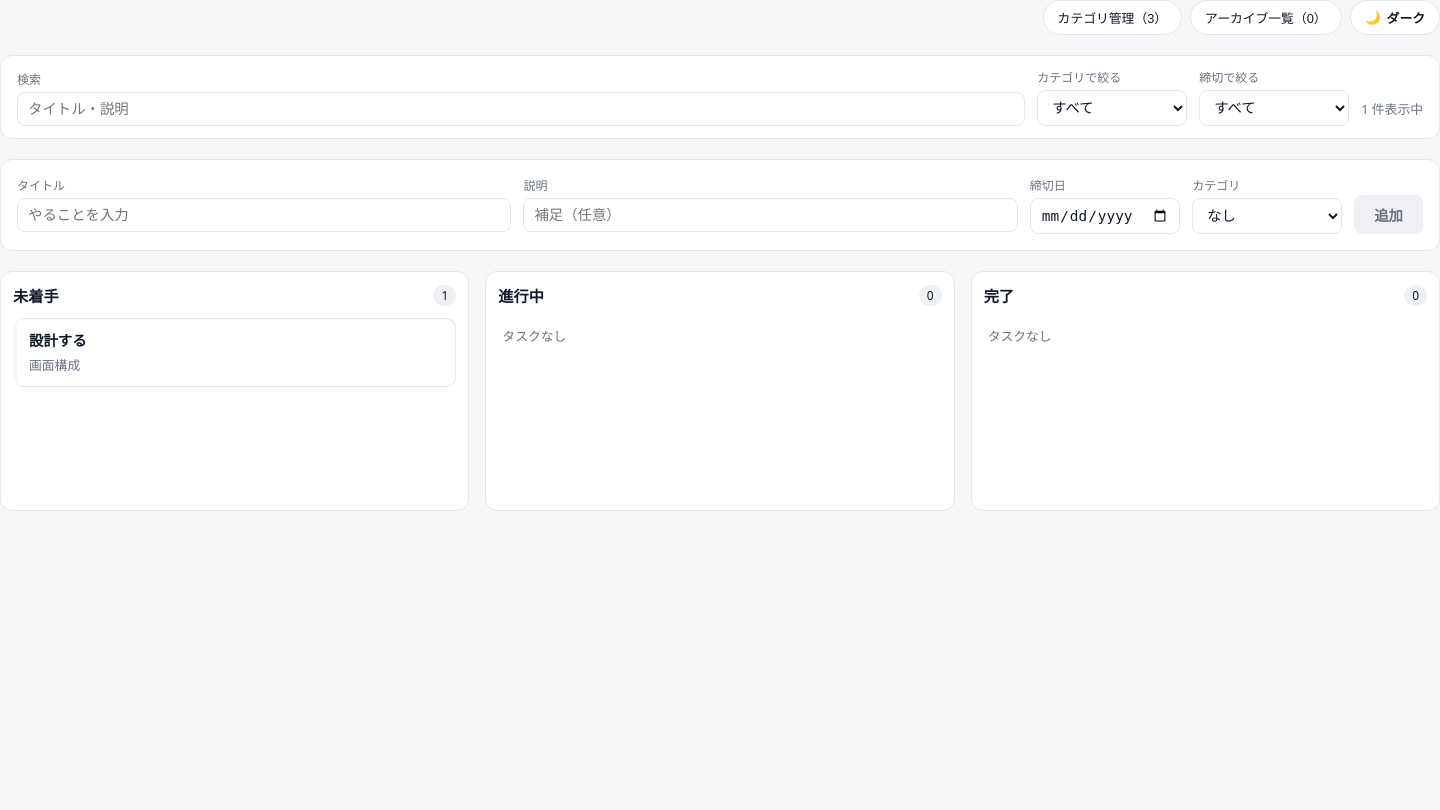
Test case: KanbanBoard › 詳細で編集した内容がボードに反映される
Click the button with test id "task-1".
click(58, 341)  # box [13, 318, 456, 387]
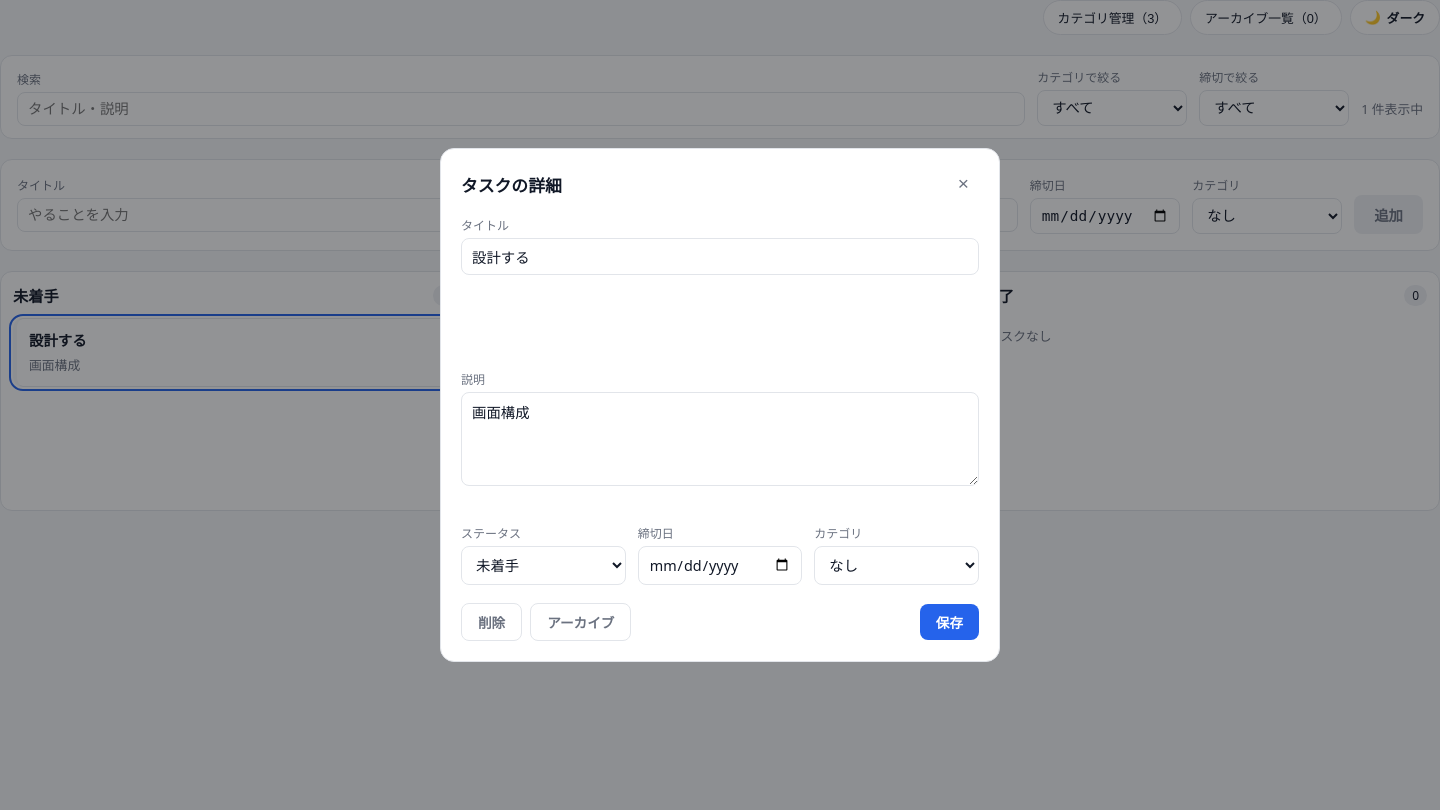
Replace the text in the field labelled "タイトル" with "設計を見直す" at (720, 256), box [461, 238, 979, 275]
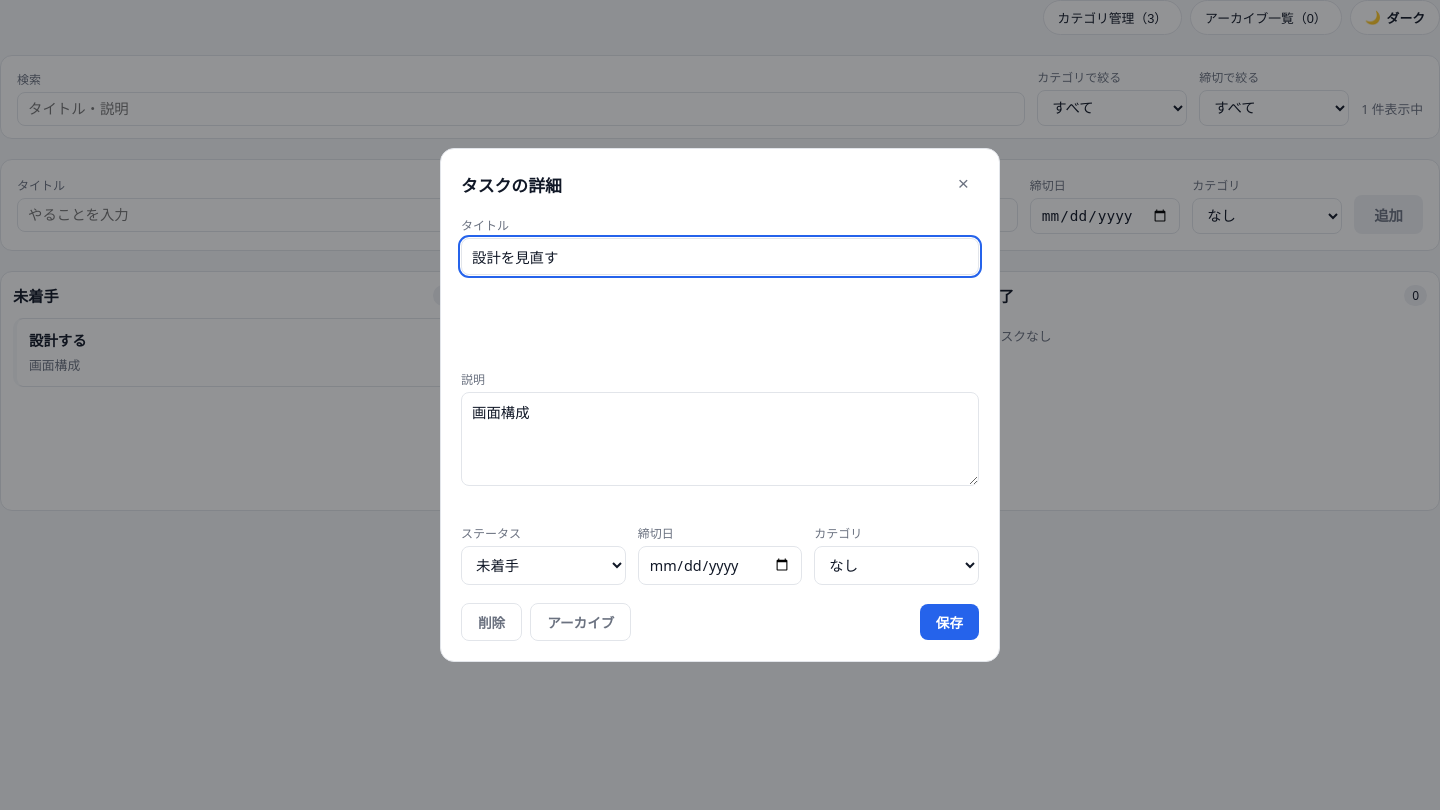
Type "2026-10-01" into the date field labelled "締切日".
click(720, 565); type("2026-10-01")  # box [638, 546, 802, 585]
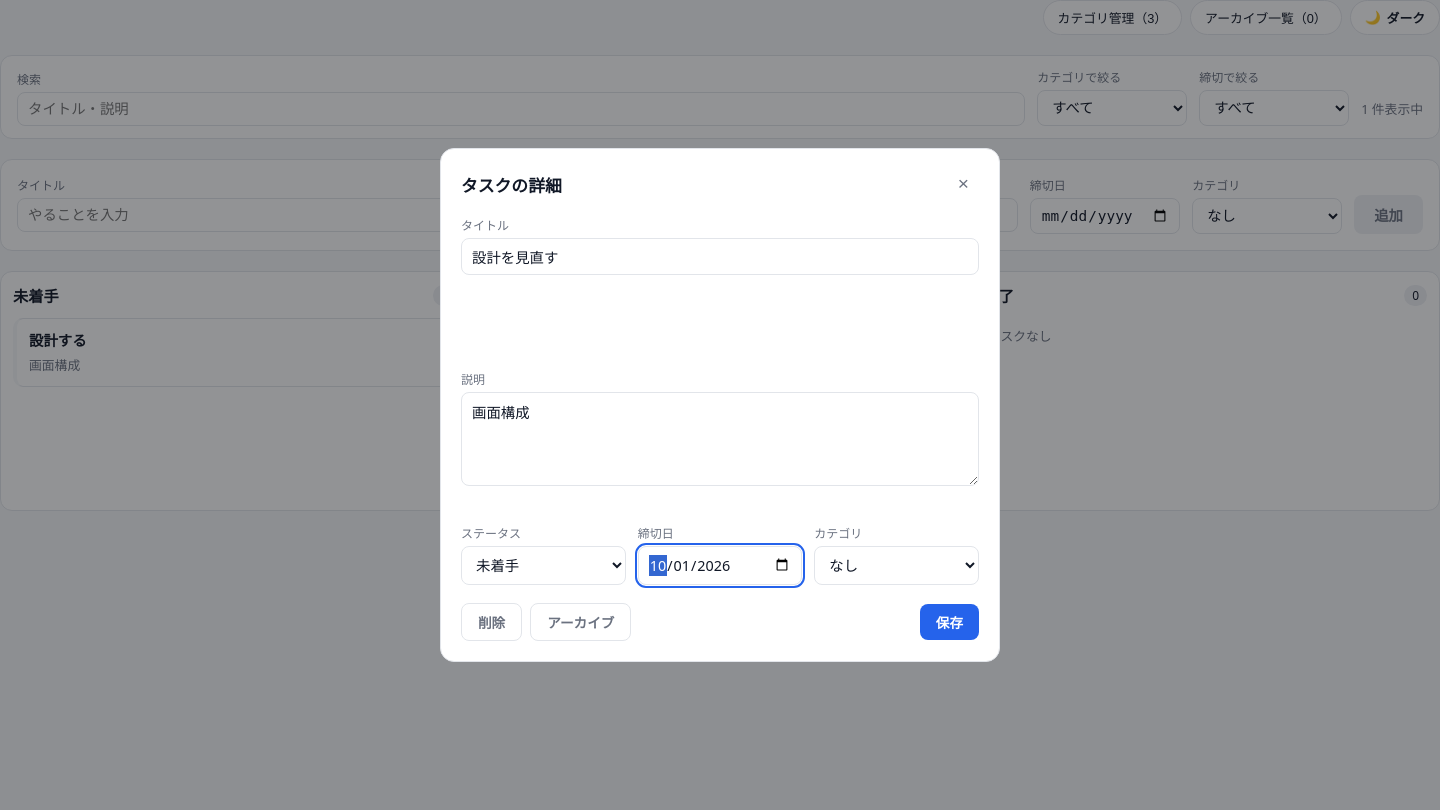
Select "完了" in the dropdown labelled "ステータス" at (543, 565), box [461, 546, 626, 585]
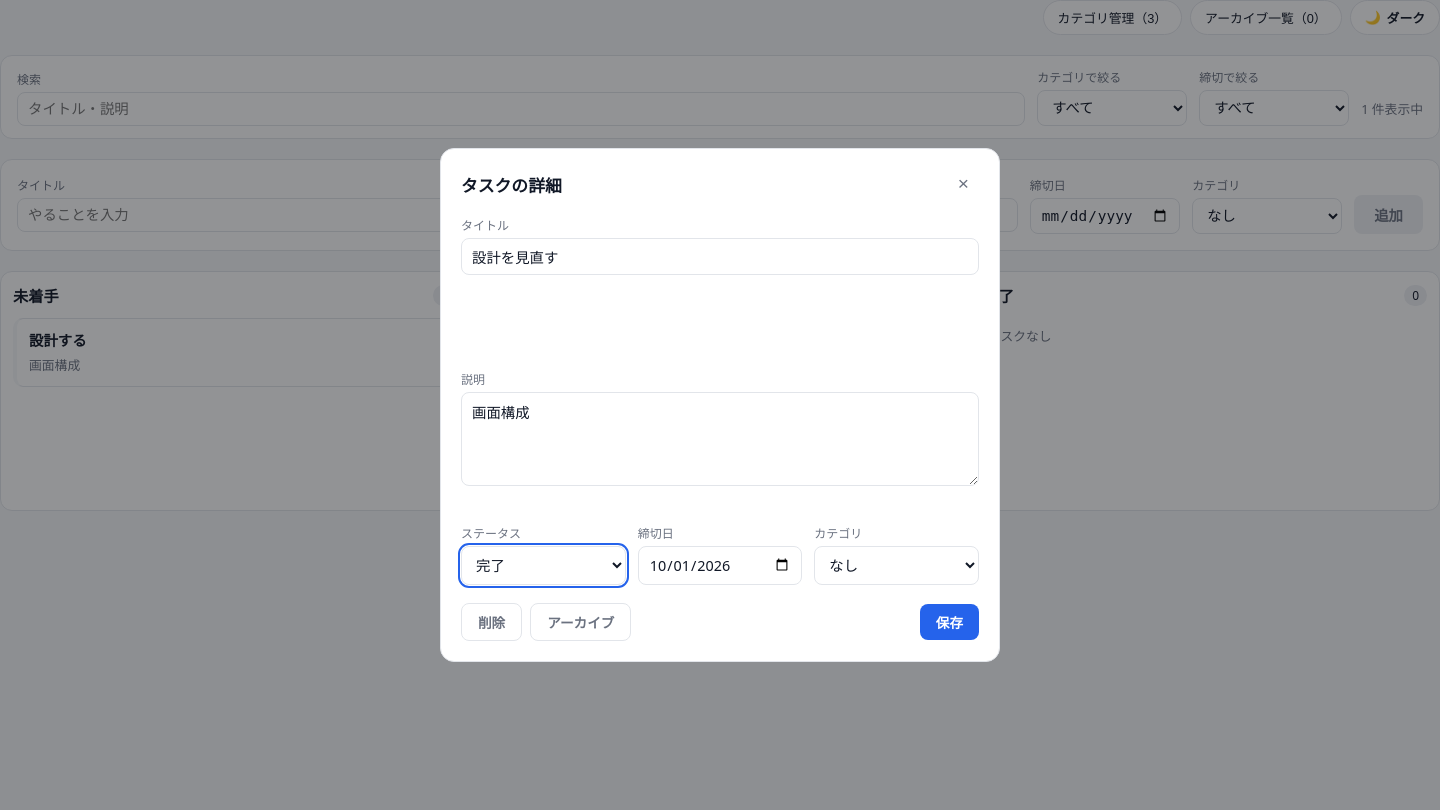
Click the button "保存".
click(949, 622)  # box [920, 604, 979, 640]
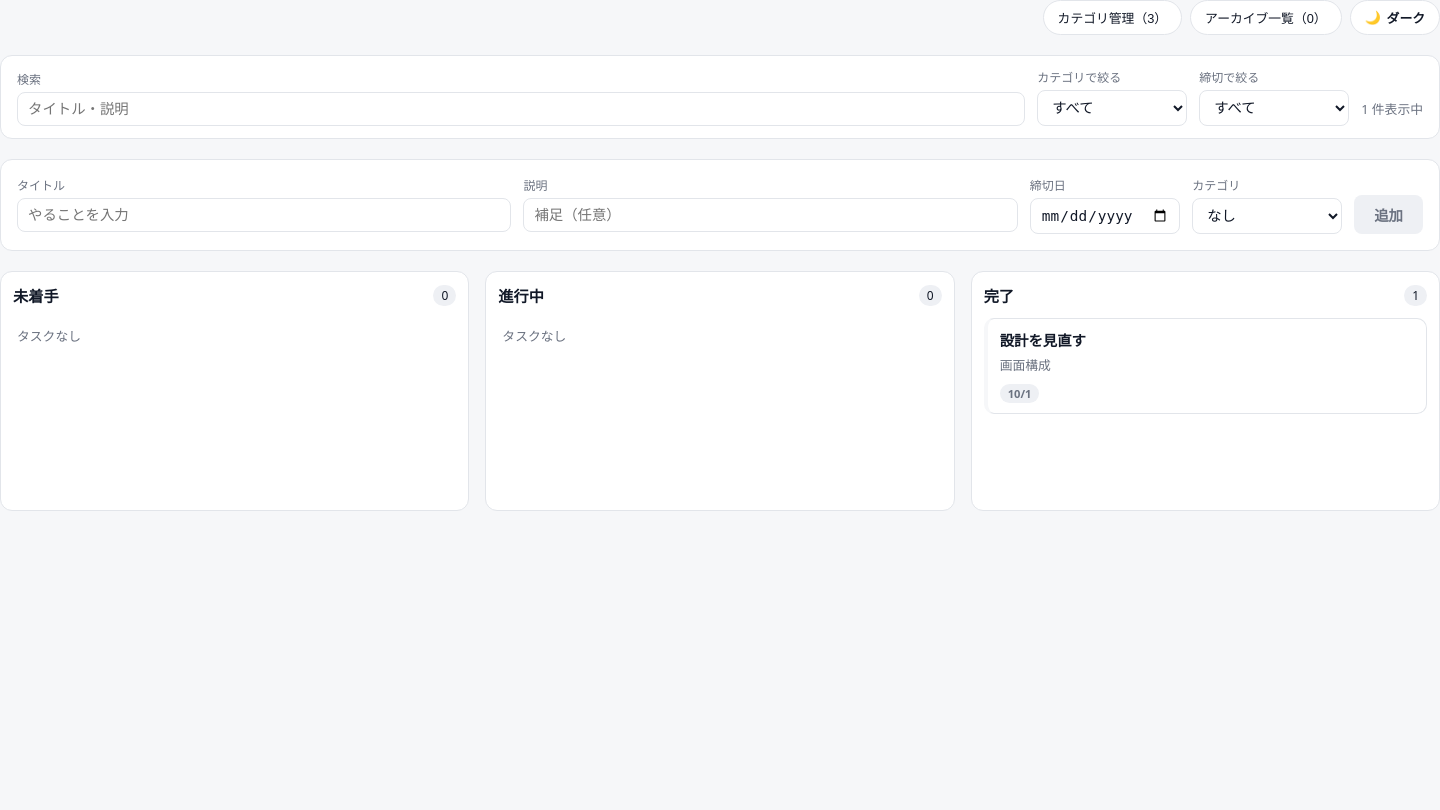
Now the dialog is gone
Now the heading "設計を見直す" is shown, box [1000, 331, 1086, 350]
Now the text "10/1" is shown, box [1000, 384, 1040, 403]
